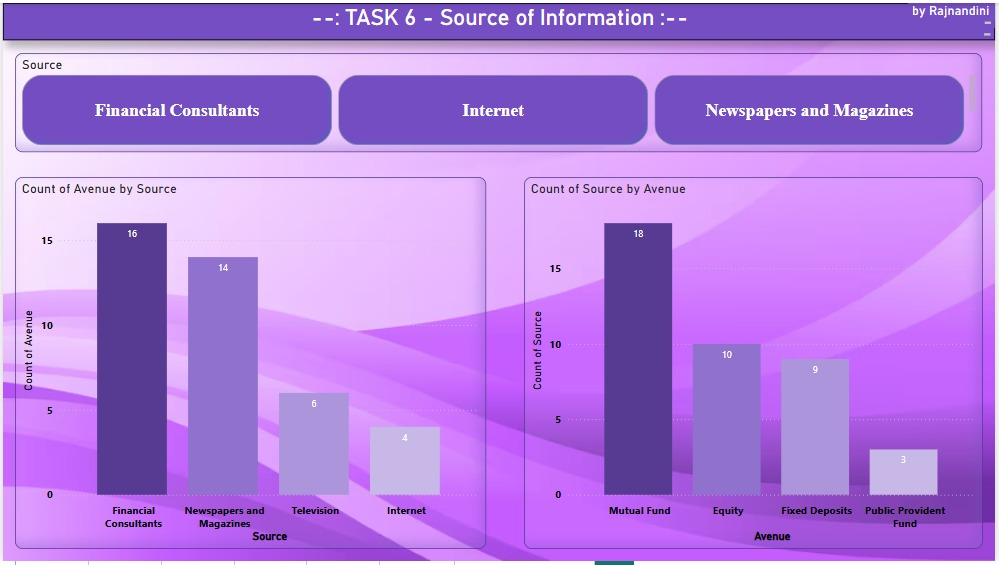

The dashboard page shown, as its layout file describes it:
{"tool":"powerbi","page":{"name":"Task 6","canvas":[1280,720],"ordinal":5},"visuals":[{"type":"textbox","title":"--: TASK 6 - Source of Information :--","box":[0,0,1280,48],"z":0},{"type":"clusteredColumnChart","fields":{"Category":["Data_set 2.Source"],"Y":["CountNonNull(Data_set 2.Avenue)"]},"box":[16,224,608,480],"z":2000},{"type":"advancedSlicerVisual","fields":{"Values":["Data_set 2.Source"]},"box":[16,64,1248,128],"z":3000},{"type":"textbox","title":"by Rajnandini","box":[1168,0,112,32],"z":4000},{"type":"clusteredColumnChart","fields":{"Category":["Data_set 2.Avenue"],"Y":["CountNonNull(Data_set 2.Source)"]},"box":[672,224,592,480],"z":5000}]}

Visuals, with their boxes in screenshot pixels (x1, y1, x2, y2), scaled from the page's 1280x720 canvas onto the 999x565 screenshot:
"--: TASK 6 - Source of Information :--" textbox: crop(0, 0, 998, 38)
clusteredColumnChart - Data_set 2.Source x CountNonNull(Data_set 2.Avenue): crop(12, 176, 487, 552)
advancedSlicerVisual - Data_set 2.Source: crop(12, 50, 987, 151)
"by Rajnandini" textbox: crop(912, 0, 998, 25)
clusteredColumnChart - Data_set 2.Avenue x CountNonNull(Data_set 2.Source): crop(524, 176, 987, 552)
